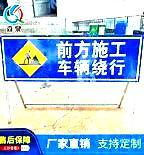sign: (2, 37, 139, 81)
